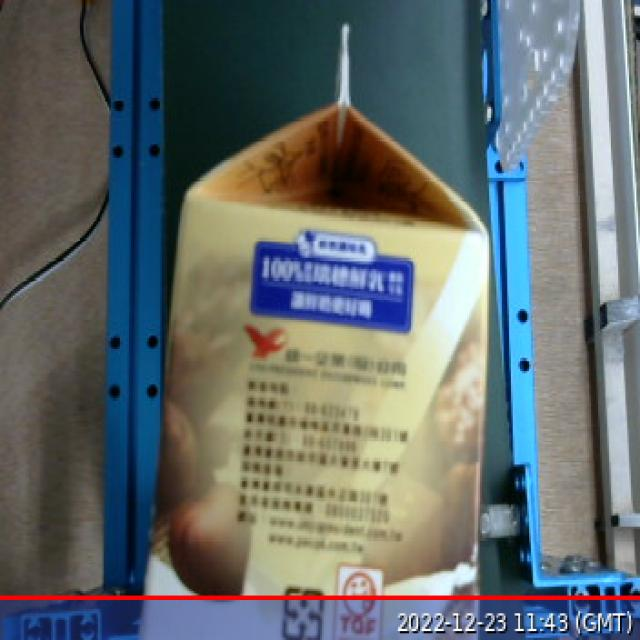non_white_jug: (128, 16, 504, 640)
